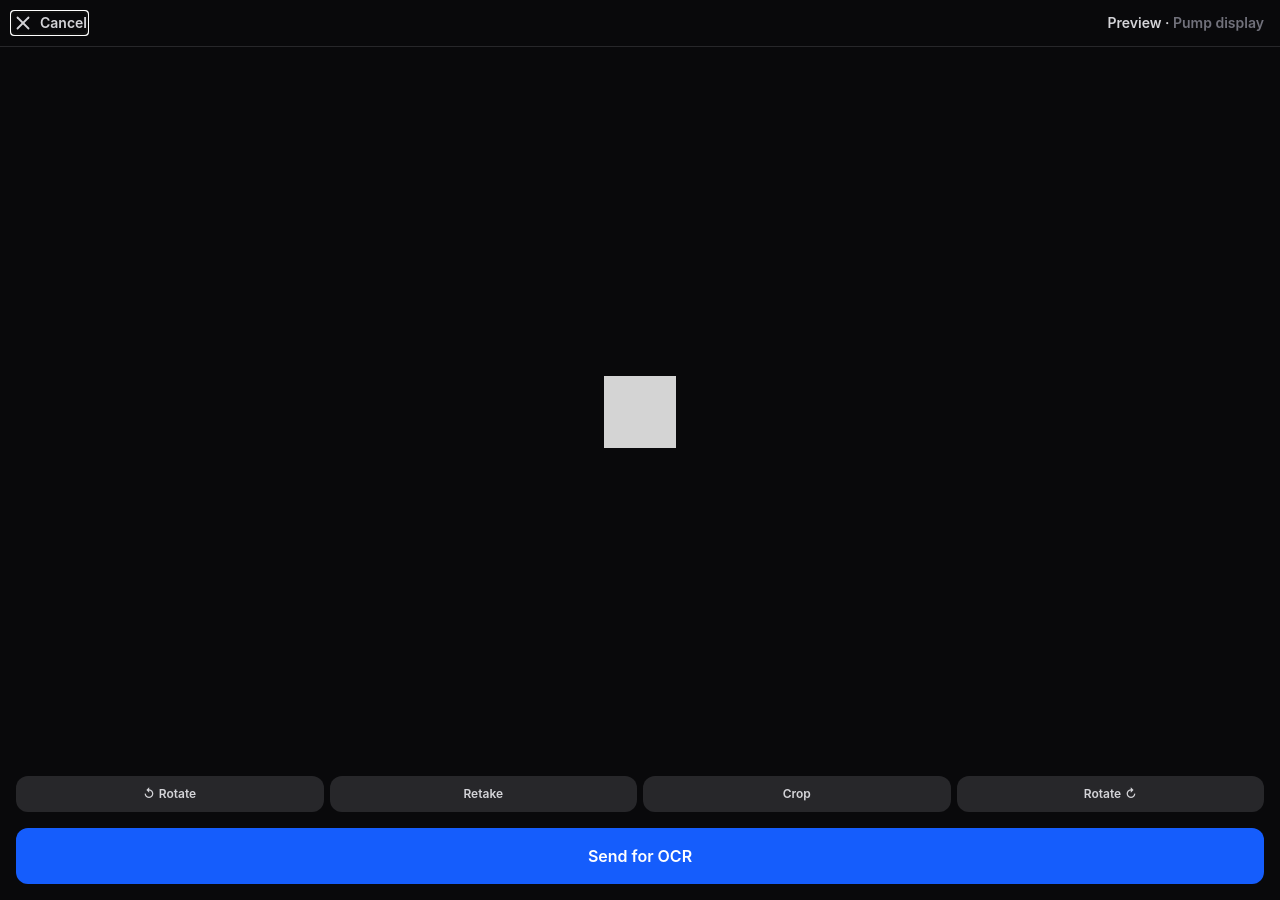
Test case: OcrPreview — crop mode › ESC inside crop mode cancels crop, not the whole modal
This screenshot has width=1280, height=900.
Step 1. Click the button with aria-label "Crop image" → (797, 794), box [643,776,950,812]
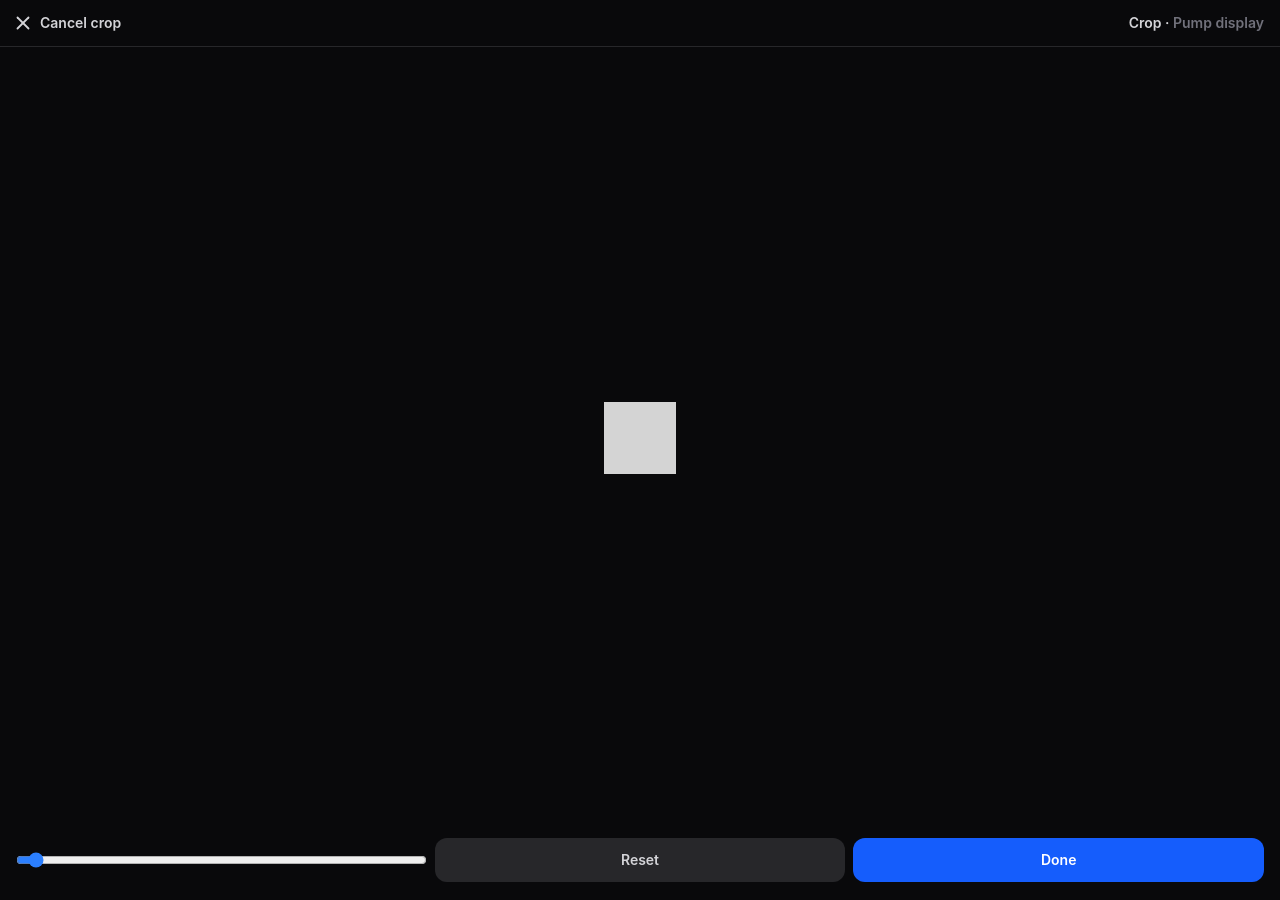
Step 2. Press Escape
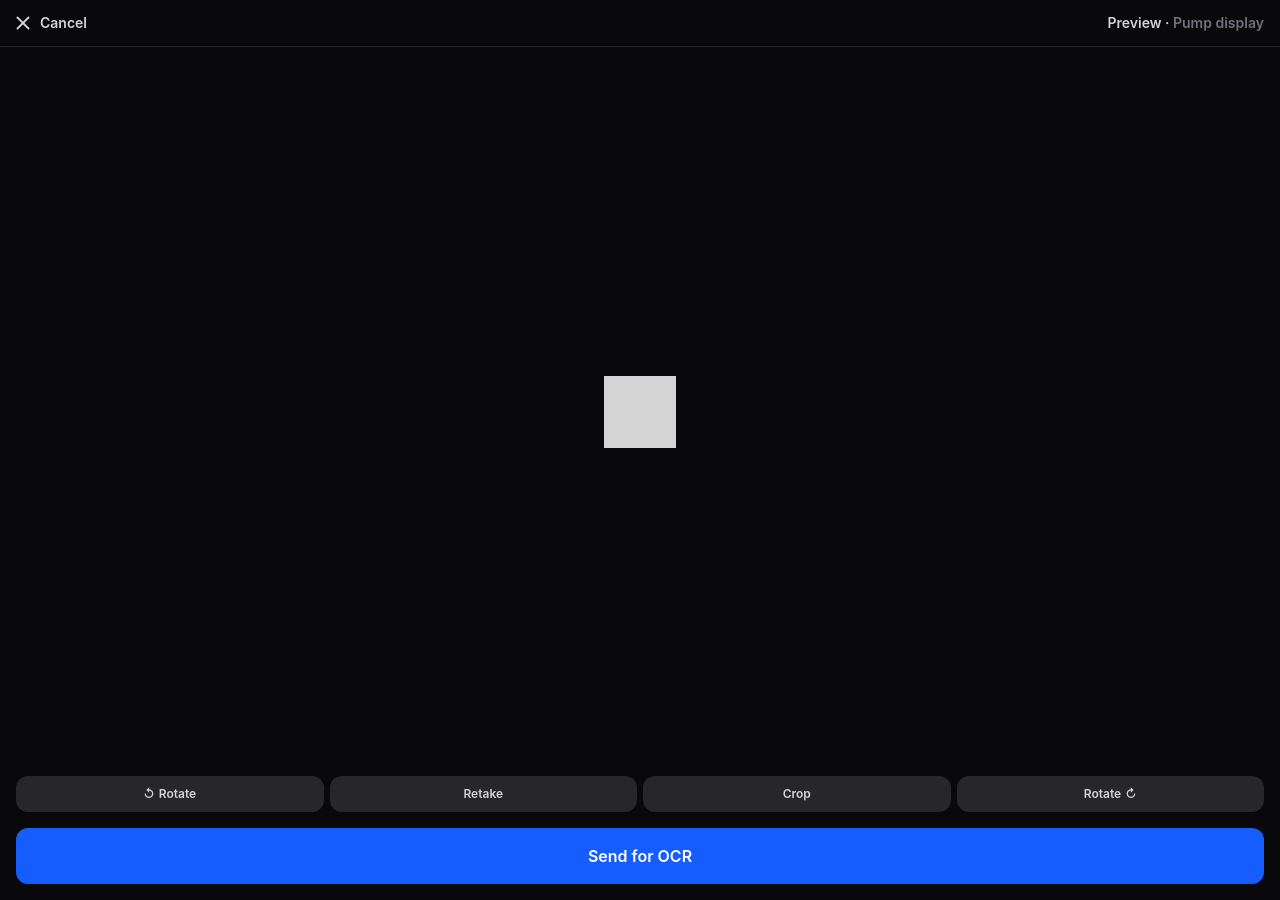
Check: the button "Send for OCR" is shown, box [16,828,1264,884]
